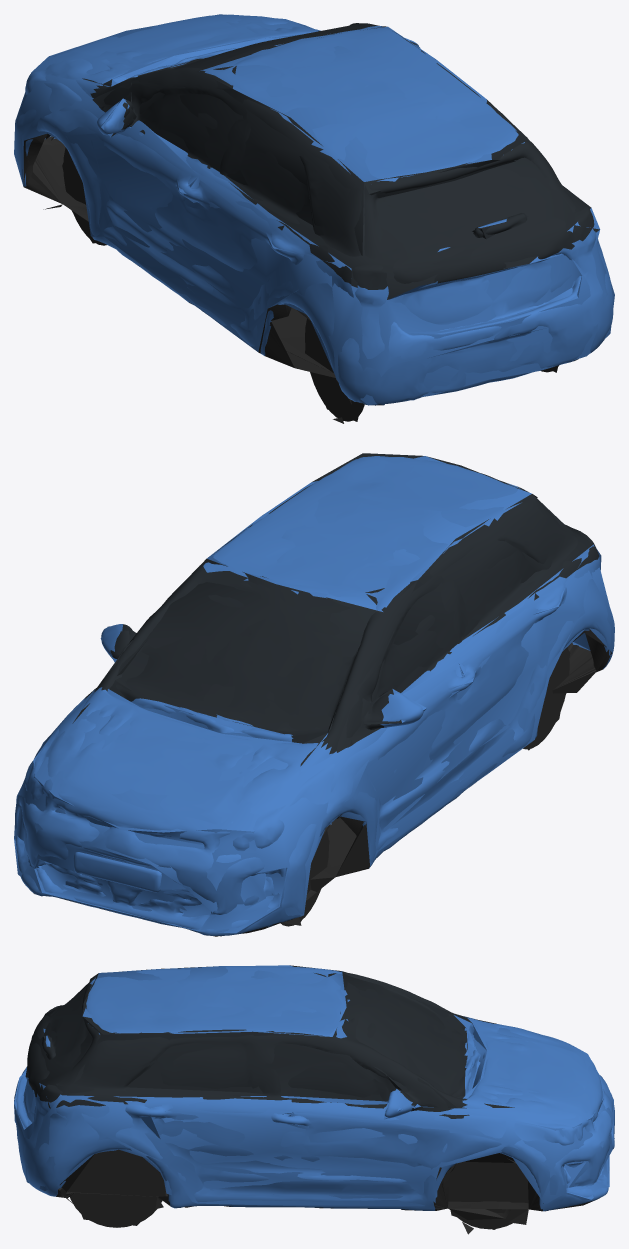
File: kia-rio.glb
3 renders of one model, top to bottom at view 1: azimuth 30°, elevation 25°; view 2: azimuth 150°, elevation 25°; view 3: azimuth 270°, elevation 25°, orthographic. The views are drawn at different scales.
Parts seen in each view (by area): view 1: body, far; view 2: body, far; view 3: body, far.
Part boxes in pixels (x1,y1,x2,y2): body: [14, 14, 613, 423]; far: [14, 14, 614, 421]; body: [15, 456, 614, 936]; far: [14, 453, 613, 933]; body: [14, 966, 614, 1234]; far: [14, 965, 613, 1229].
Bounding box in the file's own units: 2.12 × 1.59 × 4.41.
